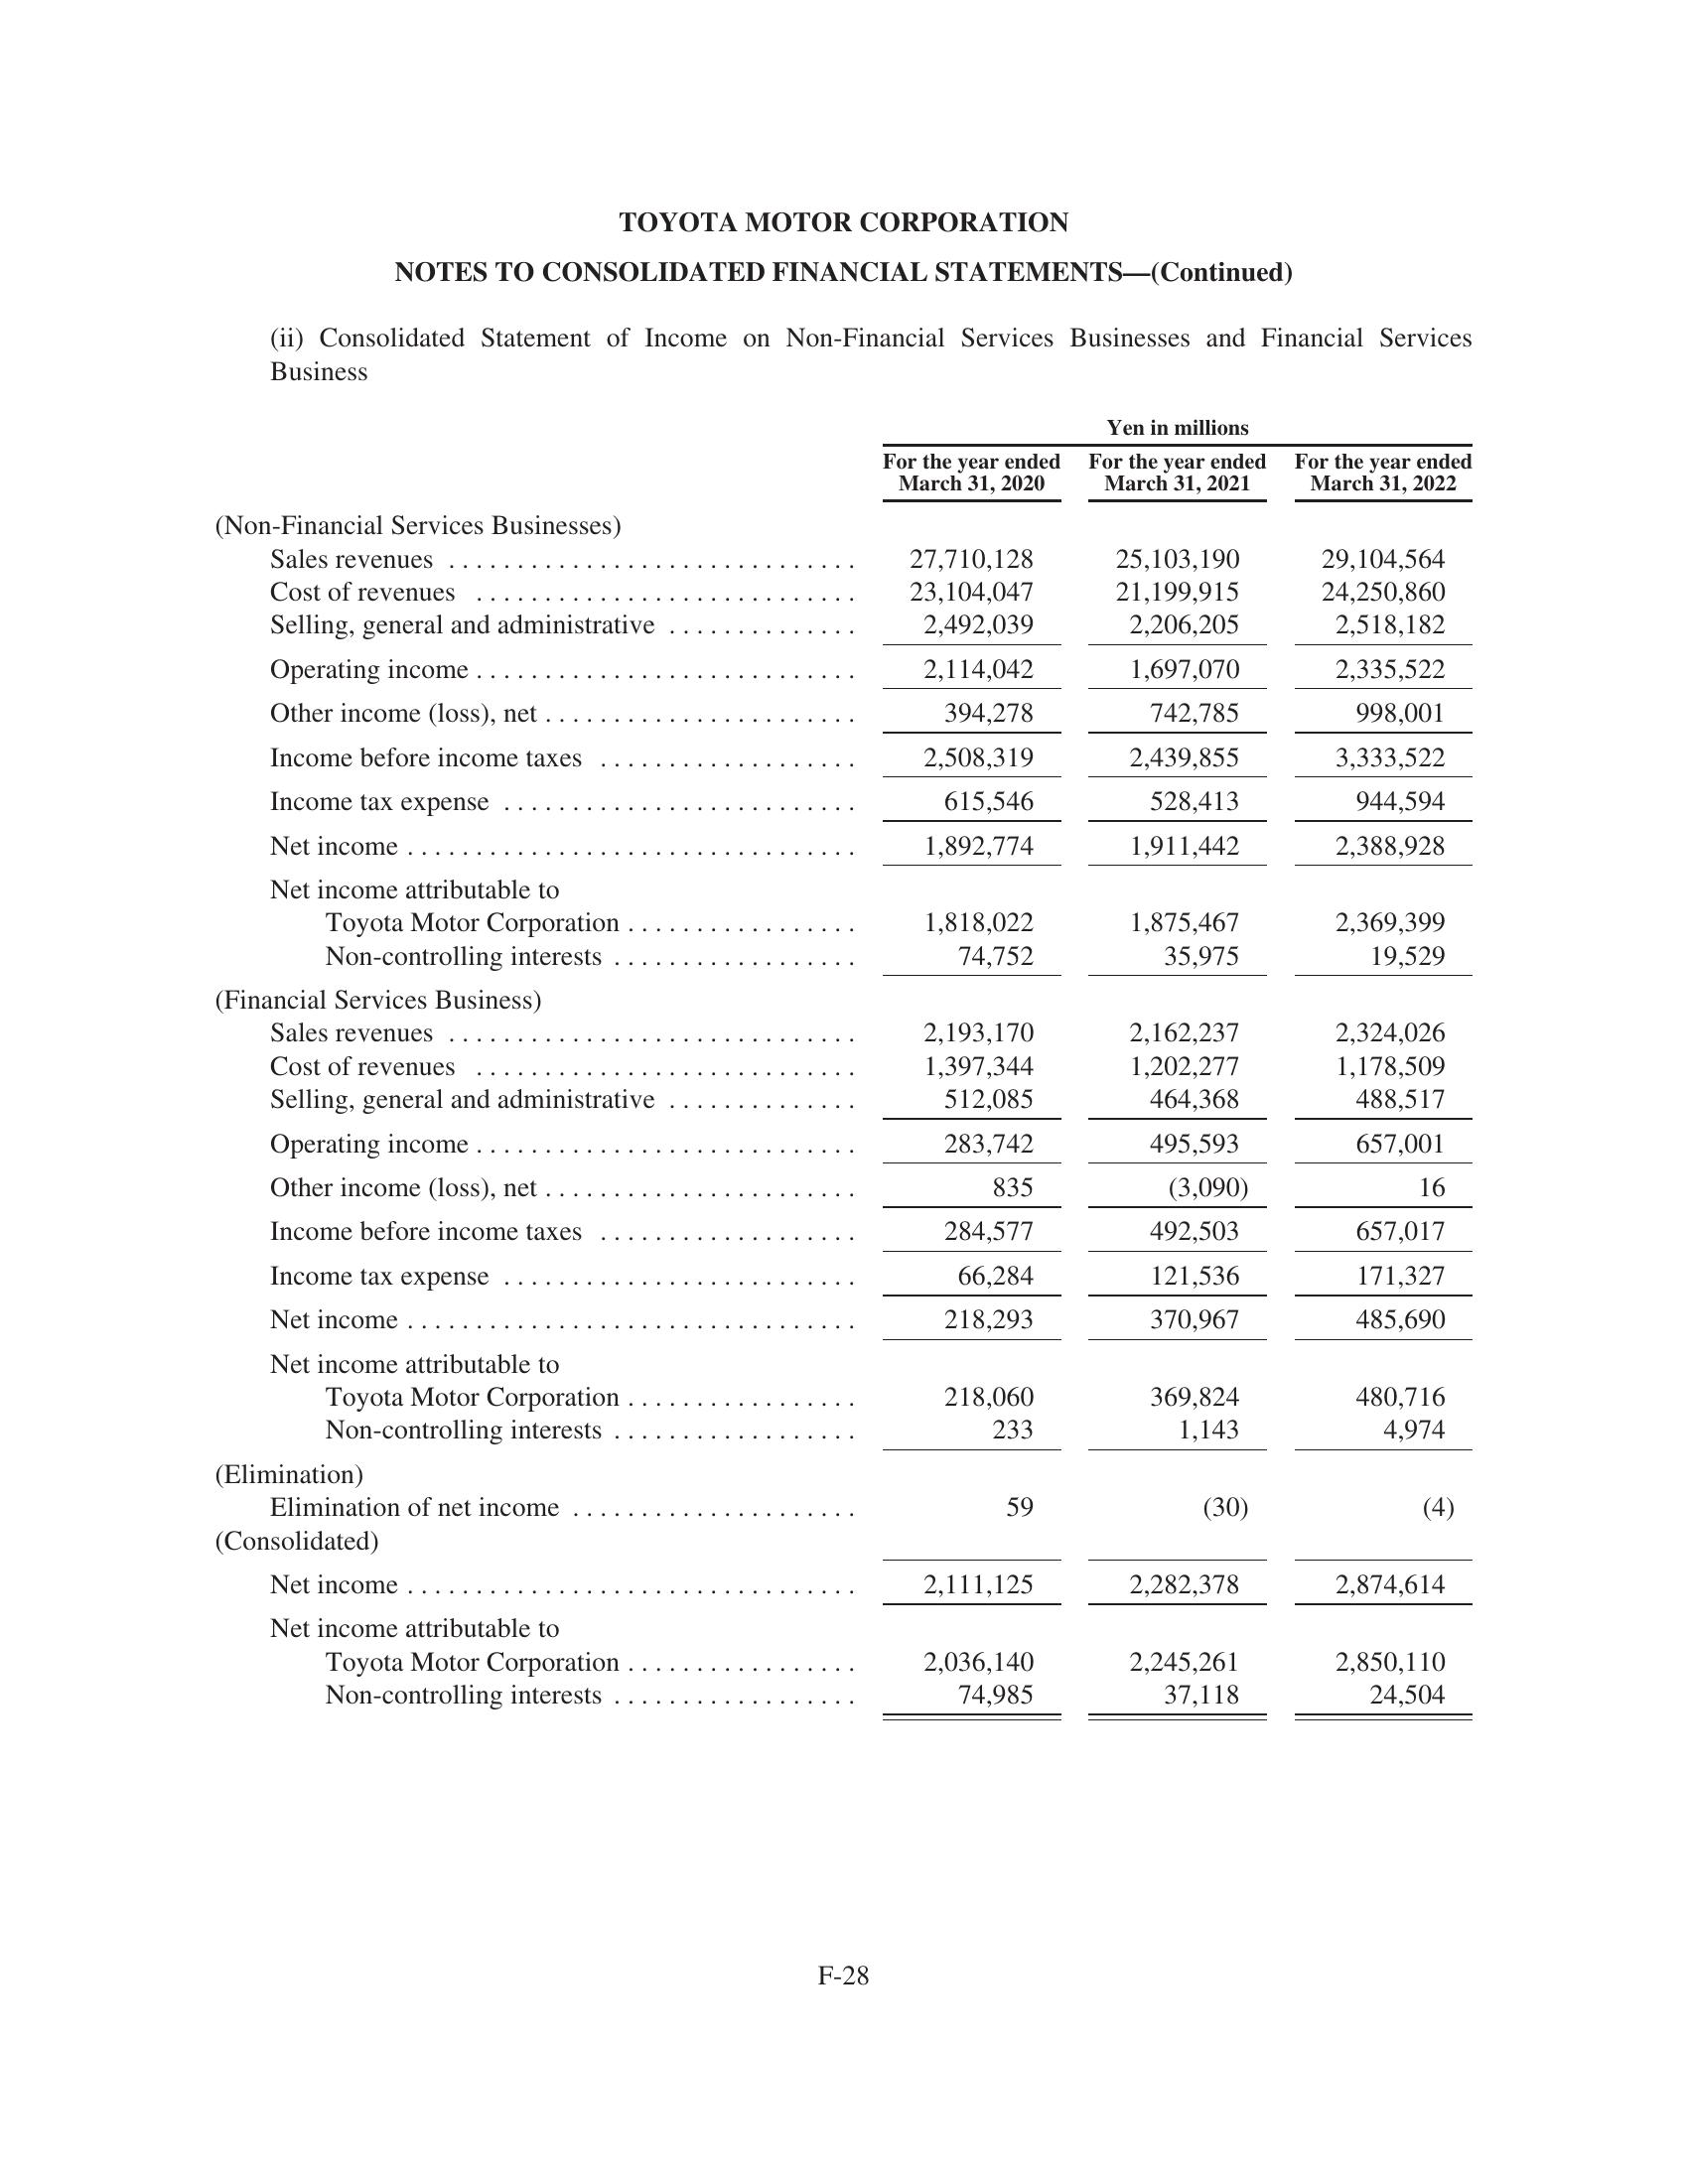Footer: (0, 1950, 1688, 2184)
Header: (0, 0, 1688, 179)
Table: (99, 413, 1567, 1771)
